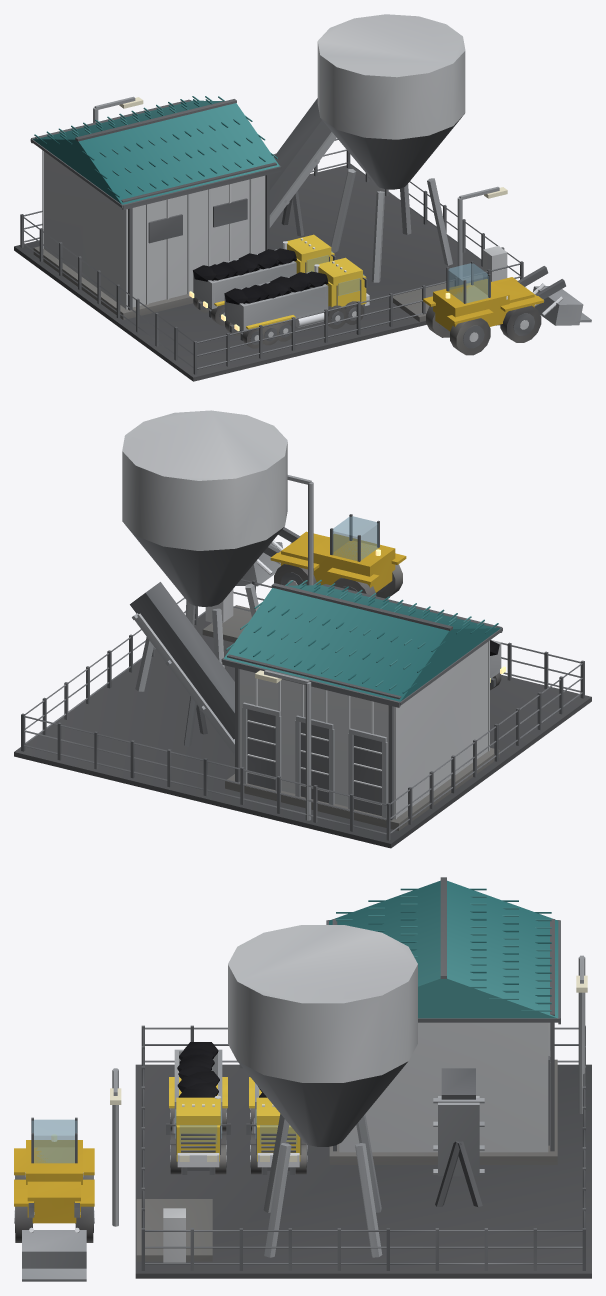
File: Haul_P3.fbx
The picture shows the model from 3 angles, top to bottom: view 1: azimuth 30°, elevation 25°; view 2: azimuth 150°, elevation 25°; view 3: azimuth 270°, elevation 25°; orthographic projection. The views are drawn at different scales.
Parts seen in each view (by area): view 1: Haul.Workshop, Haul.Hopper, Haul.Yard, Haul.Loader, Haul.Parked1, Haul.Fence, Haul.Parked0, Haul.Conv, Haul.Weighbridge, Haul.Lamp0; view 2: Haul.Workshop, Haul.Hopper, Haul.Yard, Haul.Fence, Haul.Loader, Haul.Conv, Haul.Lamp1, Haul.Weighbridge, Haul.Lamp0, Haul.Parked1; view 3: Haul.Yard, Haul.Workshop, Haul.Hopper, Haul.Loader, Haul.Parked1, Haul.Fence, Haul.Conv, Haul.Weighbridge, Haul.Parked0, Haul.Lamp1, Haul.Lamp0.
Boxes of the visible parts, box(x1,y1,x2,y2) form: Haul.Workshop: box(30, 96, 281, 319); Haul.Hopper: box(317, 14, 465, 282); Haul.Yard: box(14, 165, 482, 381); Haul.Loader: box(423, 261, 591, 355); Haul.Parked1: box(221, 257, 369, 348); Haul.Fence: box(20, 138, 523, 374); Haul.Parked0: box(189, 234, 335, 325); Haul.Conv: box(269, 98, 336, 236); Haul.Weighbridge: box(393, 246, 507, 321); Haul.Lamp0: box(457, 186, 507, 285); Haul.Workshop: box(221, 580, 502, 830); Haul.Hopper: box(122, 410, 287, 691); Haul.Yard: box(14, 613, 591, 848); Haul.Fence: box(21, 579, 584, 840); Haul.Loader: box(236, 514, 406, 598); Haul.Conv: box(130, 582, 234, 756); Haul.Lamp1: box(255, 670, 311, 820); Haul.Weighbridge: box(202, 589, 251, 642); Haul.Lamp0: box(287, 475, 313, 585); Haul.Parked1: box(490, 640, 505, 690); Haul.Yard: box(135, 1064, 591, 1278); Haul.Workshop: box(326, 877, 560, 1164); Haul.Hopper: box(228, 925, 417, 1257); Haul.Loader: box(14, 1117, 94, 1281); Haul.Parked1: box(166, 1042, 230, 1174); Haul.Fence: box(141, 1025, 585, 1270); Haul.Conv: box(433, 1068, 484, 1207); Haul.Weighbridge: box(136, 1199, 212, 1262); Haul.Parked0: box(246, 1077, 307, 1174); Haul.Lamp1: box(576, 955, 587, 1113); Haul.Lamp0: box(110, 1068, 121, 1226).
Size of the model in its own units: 2734 by 1598 by 3040.
